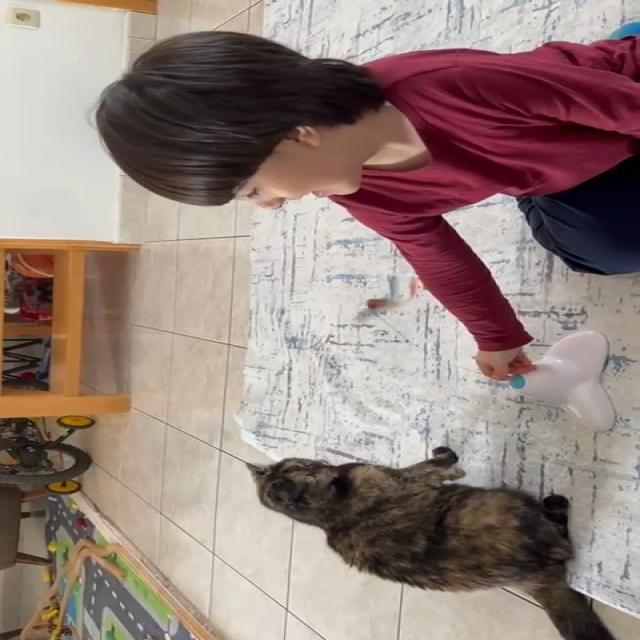authorized: (244, 446, 619, 640)
